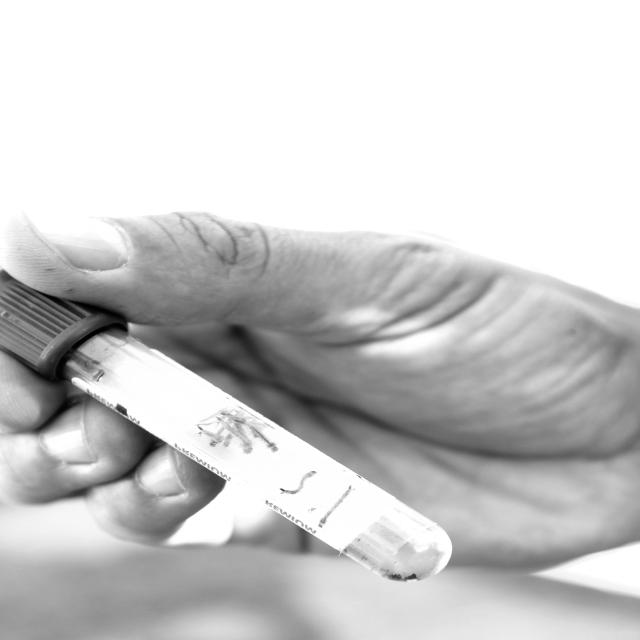larvas: (225, 407, 280, 455), (217, 415, 255, 457), (319, 484, 353, 529), (281, 470, 318, 494), (198, 423, 230, 449), (210, 440, 217, 448)
